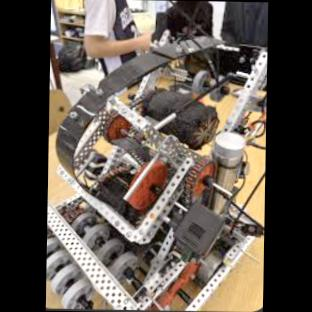Robot: (45, 28, 266, 310)
